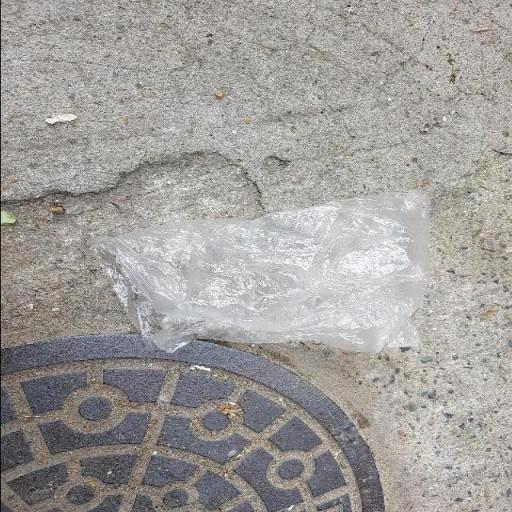plastic-bag: (89, 186, 436, 360)
